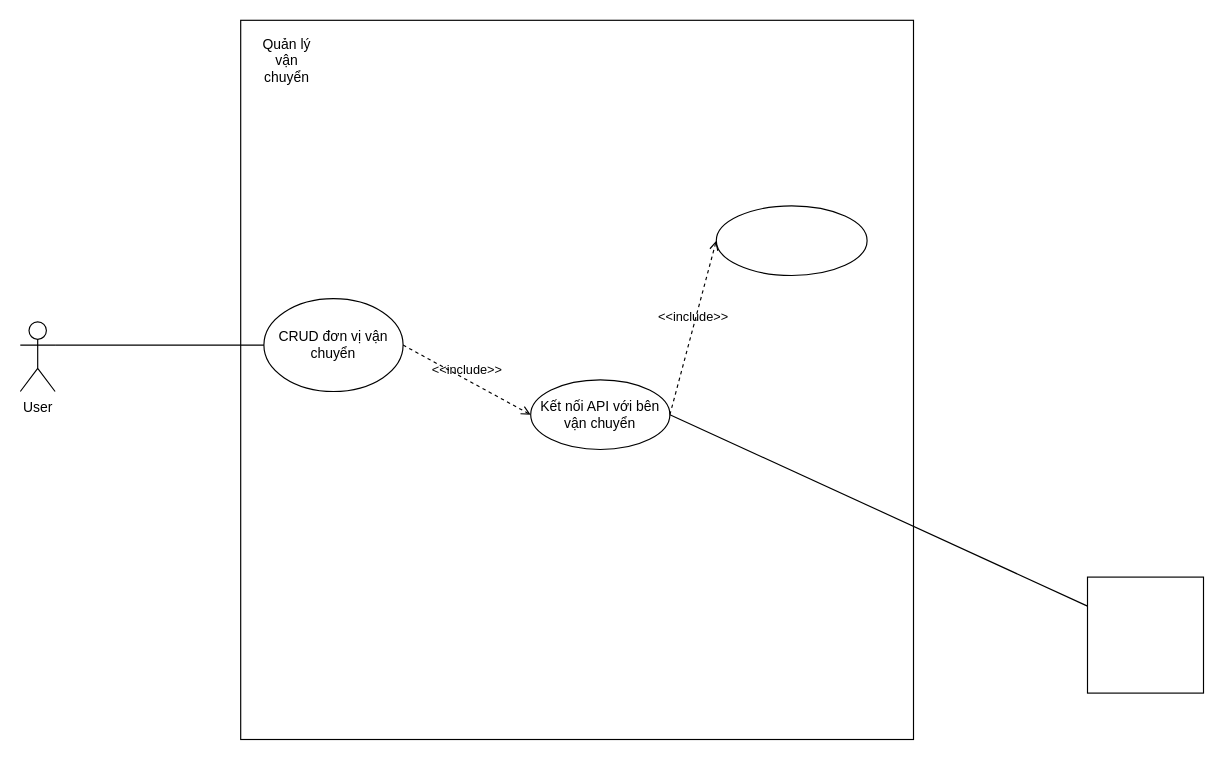
The diagram is 1224 pixels wide and 760 high, and some of its shapes have lost their labels. The centre of each missing label's shape, as x and y in pixels:
"Delivery unit" belongs at (x=1145, y=634).
"Nhập link API lấy data đã xây của bên development" belongs at (x=791, y=240).
